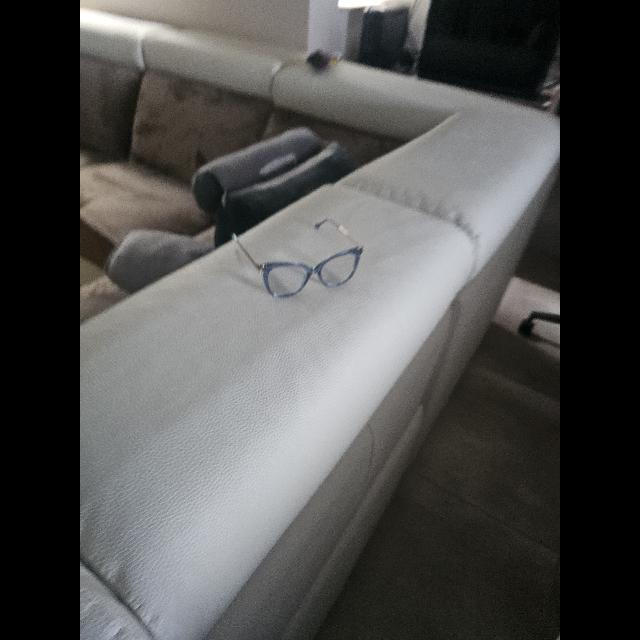glasses: (232, 218, 362, 298)
